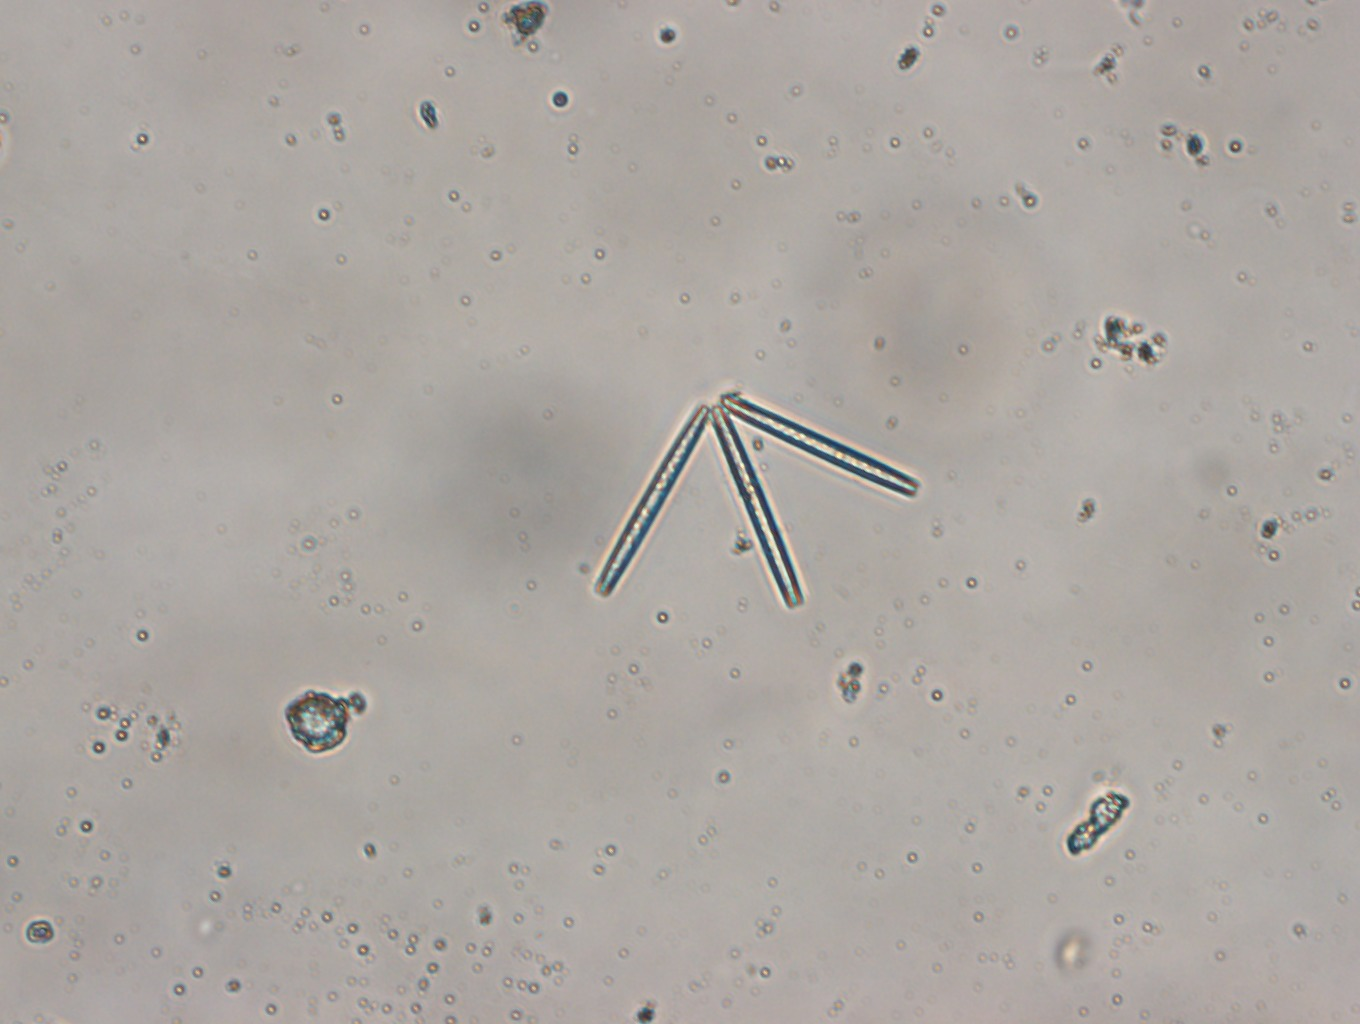thalassionema nitzschioides: (586, 378, 925, 614)
